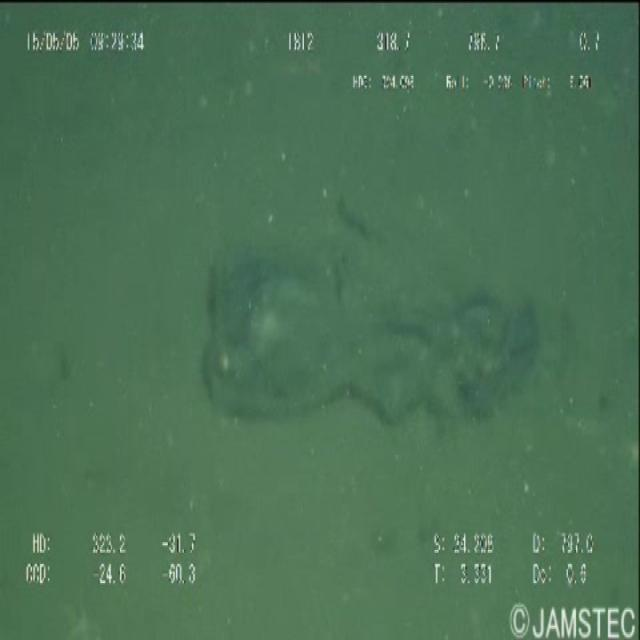Rope: (202, 184, 558, 450)
